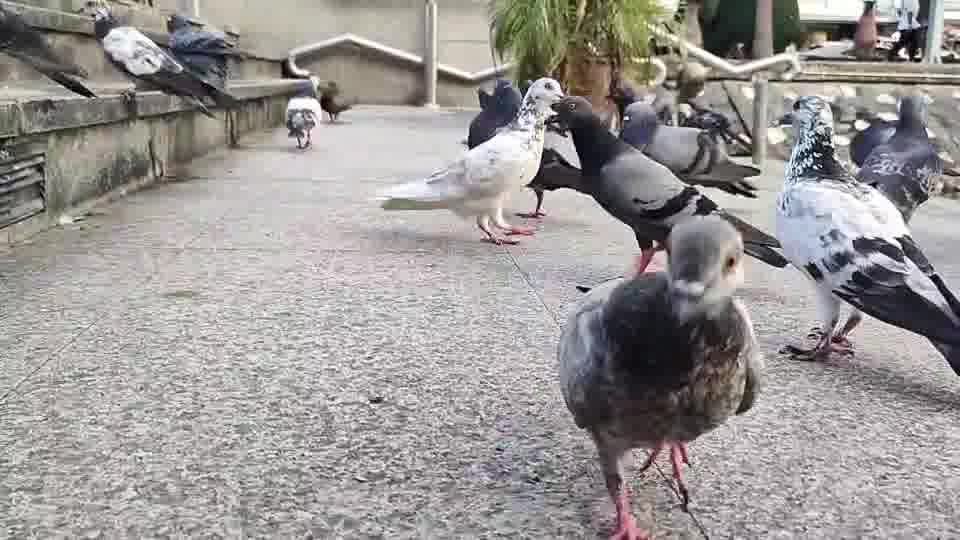Pigeon: (556, 213, 762, 538), (771, 93, 958, 377), (538, 94, 789, 285), (377, 75, 567, 246), (90, 5, 241, 118), (846, 92, 957, 224), (618, 100, 761, 199), (0, 0, 98, 99), (165, 13, 243, 84), (465, 77, 523, 151), (284, 94, 322, 150), (317, 79, 351, 122)
